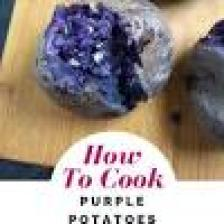Damaged potato: (33, 0, 175, 126)
